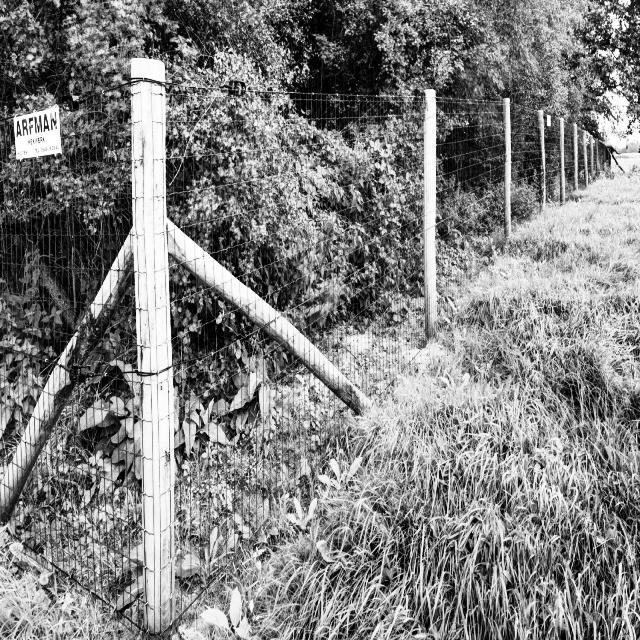fences: (0, 109, 247, 563), (268, 95, 428, 393), (442, 98, 613, 161), (450, 187, 513, 269)
